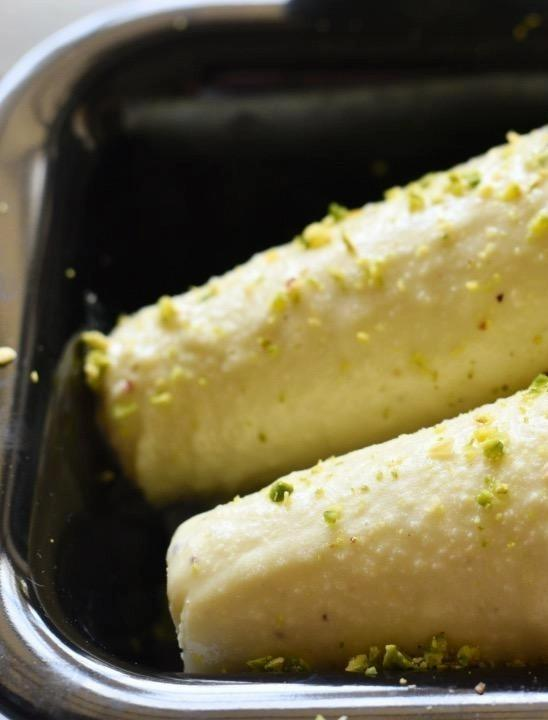Kulfi: (84, 126, 547, 501), (168, 375, 547, 680)
